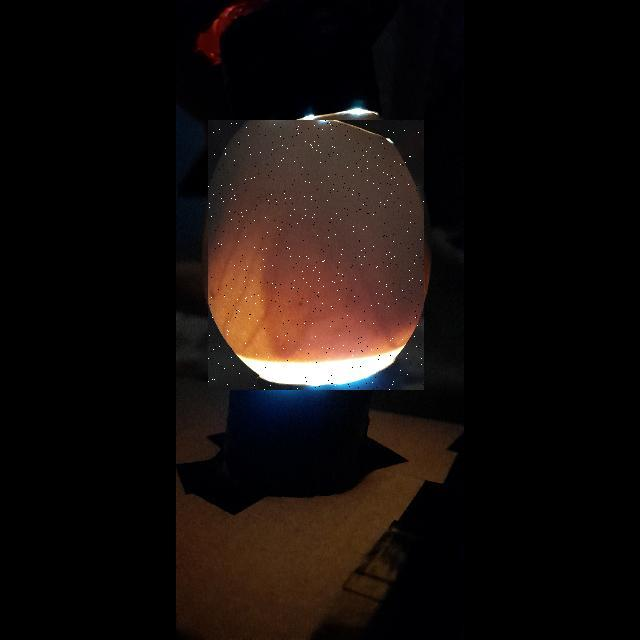Fertile: (208, 120, 424, 390)
